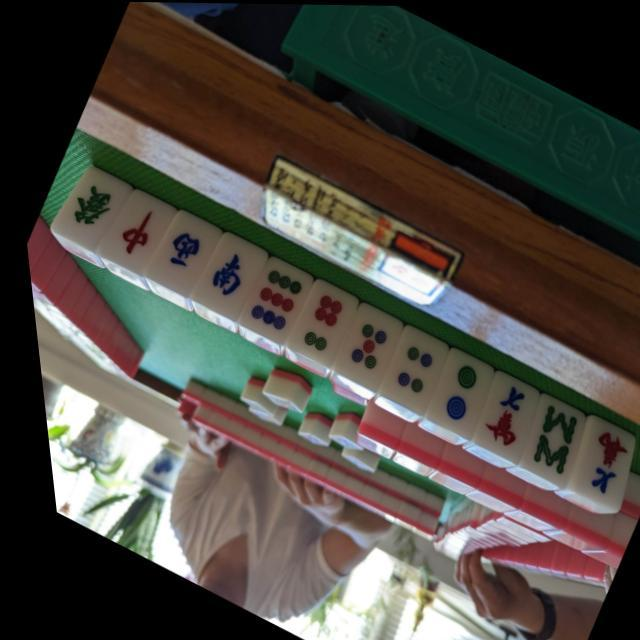hdg: (42, 162, 128, 251)
hdr: (90, 185, 171, 275)
hws: (182, 227, 264, 322)
hww: (135, 207, 216, 298)
sb8: (506, 388, 576, 487)
sc7: (461, 367, 531, 463), (561, 412, 625, 510)
sd2: (414, 344, 485, 439)
sd4: (368, 322, 441, 415)
sd5: (321, 299, 396, 391)
sd6: (277, 275, 352, 368)
sd9: (230, 252, 307, 345)
